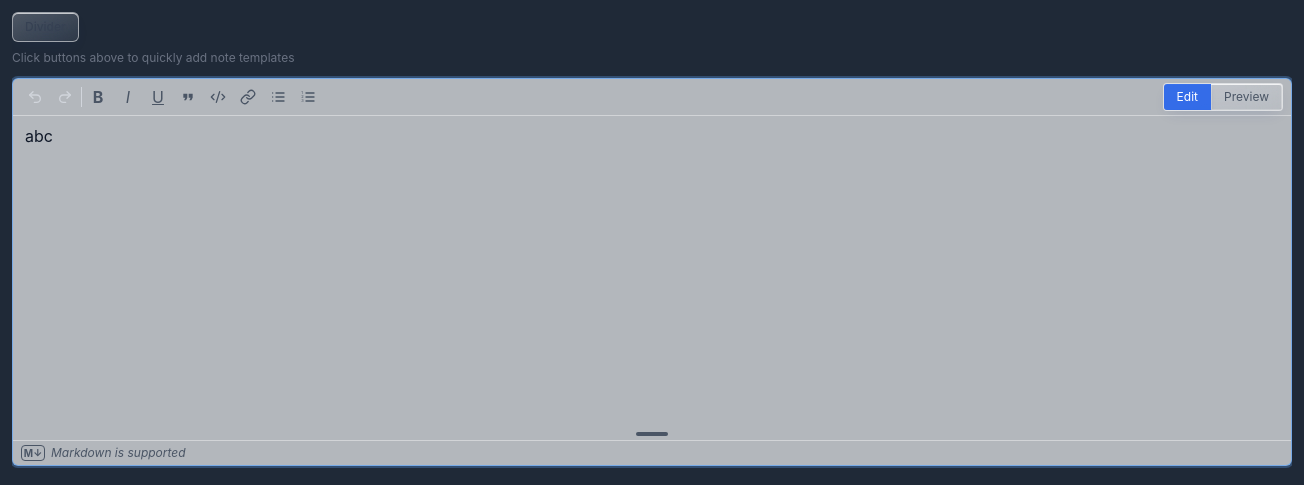
Test case: MarkdownEditorField template buttons › inserts at the caret without adding line breaks
The width and height of the screenshot is (1304, 485).
Click the button "Divider" at (45, 27), box [12,12,79,42]
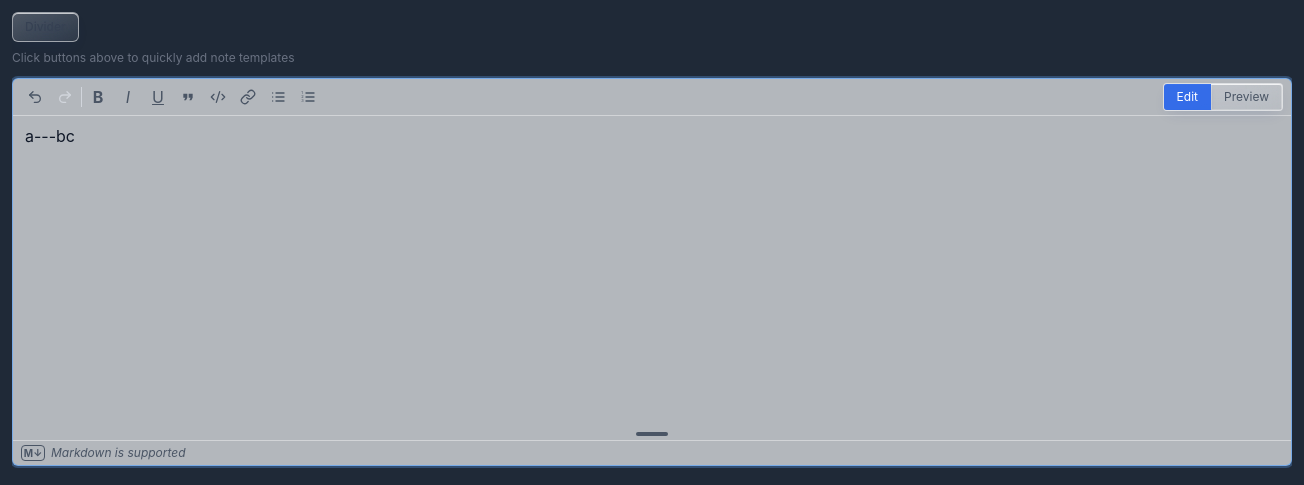
Check: the text box holds "a---bc"
